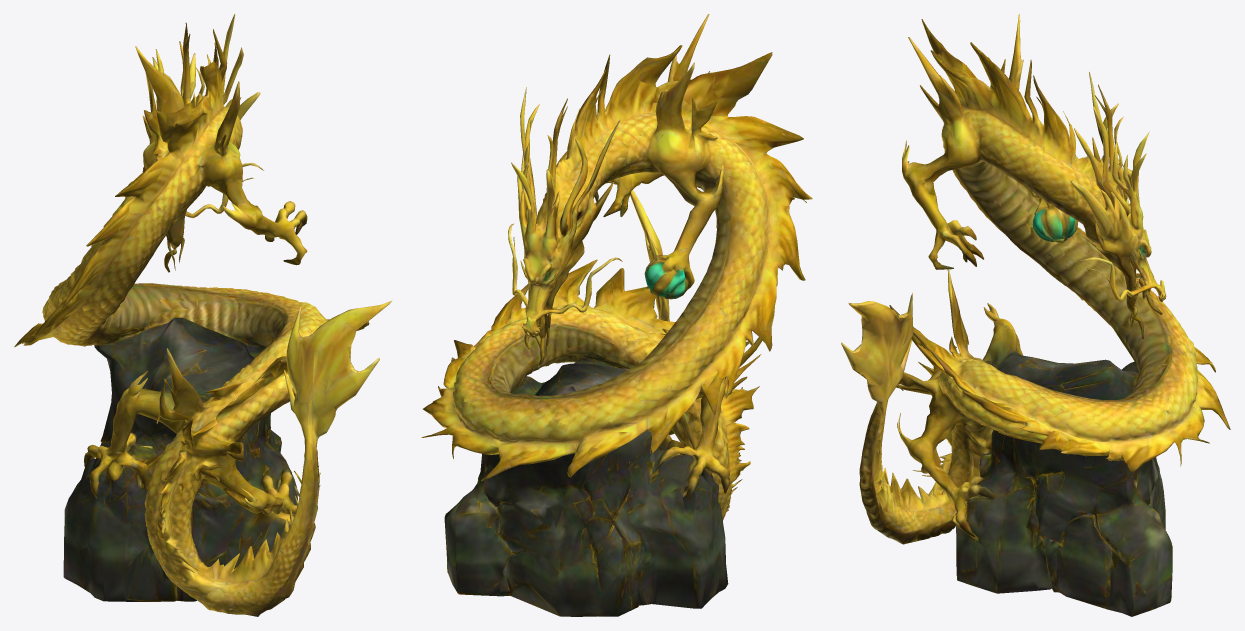
File: cj_jang_gate_dragon.remaster.glb
3 renders of one model, left to right at view 1: azimuth 30°, elevation 25°; view 2: azimuth 150°, elevation 25°; view 3: azimuth 270°, elevation 25°, orthographic. The views are drawn at different scales.
Visible parts, largest first — view 1: cj_jang_gate_dragon; view 2: cj_jang_gate_dragon; view 3: cj_jang_gate_dragon.
Boxes of the visible parts, bbox=[...] form: cj_jang_gate_dragon: bbox=[14, 14, 392, 616]; cj_jang_gate_dragon: bbox=[421, 14, 812, 616]; cj_jang_gate_dragon: bbox=[841, 14, 1230, 616].
Bounding box in the file's own units: 12.11 × 18.58 × 12.84.
Materials: 1 (1 with a texture image).
